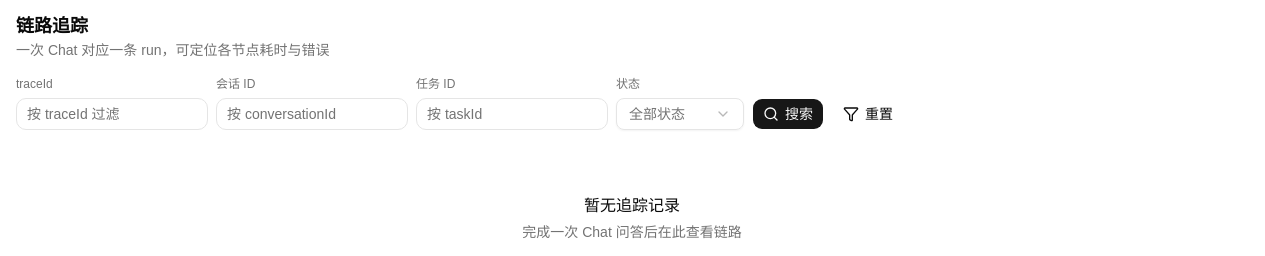
Test: TraceListPage › 状态下拉过滤同步到查询参数
Expected: the text "暂无追踪记录" is shown, [584,194,680,218]
Click the dropdown: (680,114) [616,98,744,130]
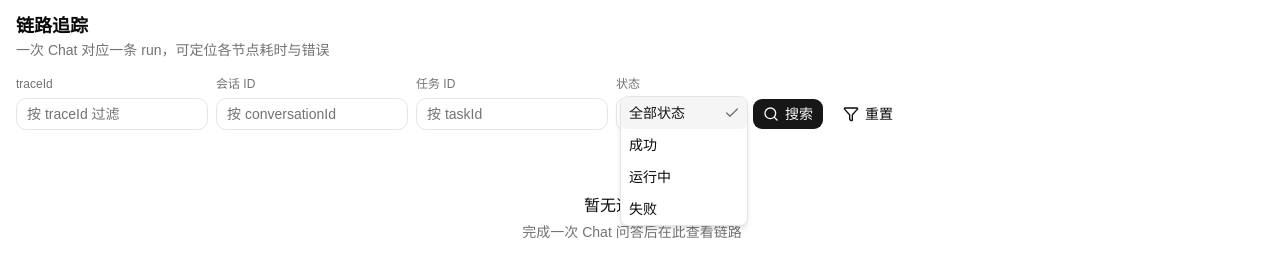
Click the option "失败": (643,209) [629,201,657,217]
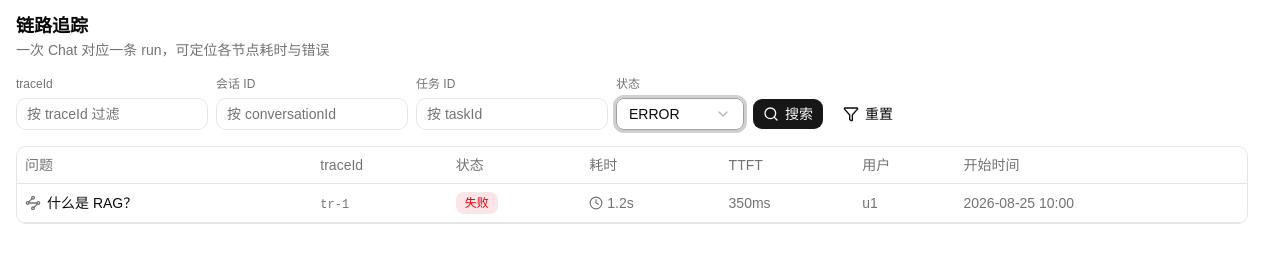
Result: the text "什么是 RAG？" is shown at [47,192,137,212]
